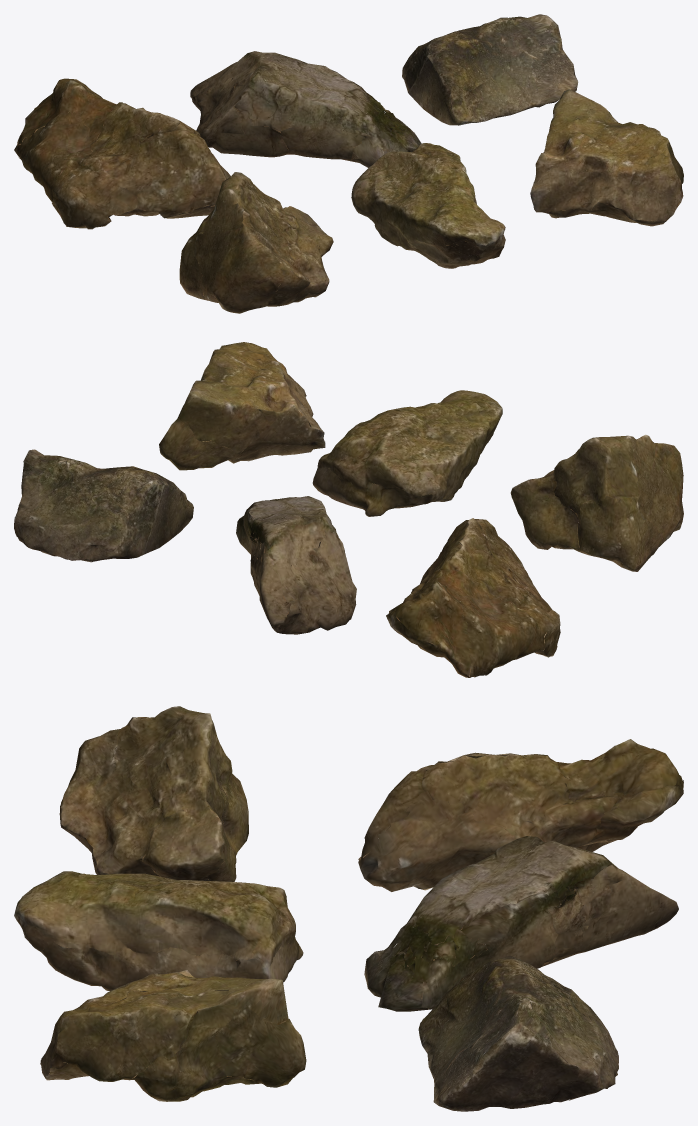
The model's file is rock_moss_set_01.glb.
3 renders of one model, top to bottom at view 1: azimuth 30°, elevation 25°; view 2: azimuth 150°, elevation 25°; view 3: azimuth 270°, elevation 25°, orthographic. The views are drawn at different scales.
Parts seen in each view (by area): view 1: rock_moss_set_01_rock01, rock_moss_set_01_rock02, rock_moss_set_01_rock06, rock_moss_set_01_rock04, rock_moss_set_01_rock03, rock_moss_set_01_rock05; view 2: rock_moss_set_01_rock04, rock_moss_set_01_rock01, rock_moss_set_01_rock05, rock_moss_set_01_rock03, rock_moss_set_01_rock06, rock_moss_set_01_rock02; view 3: rock_moss_set_01_rock01, rock_moss_set_01_rock02, rock_moss_set_01_rock05, rock_moss_set_01_rock04, rock_moss_set_01_rock06, rock_moss_set_01_rock03.
Part boxes in pixels (x1=…): rock_moss_set_01_rock01: x1=14, y1=78, x2=230, y2=229; rock_moss_set_01_rock02: x1=190, y1=51, x2=421, y2=167; rock_moss_set_01_rock06: x1=530, y1=89, x2=683, y2=226; rock_moss_set_01_rock04: x1=179, y1=172, x2=333, y2=313; rock_moss_set_01_rock03: x1=402, y1=14, x2=578, y2=125; rock_moss_set_01_rock05: x1=351, y1=143, x2=505, y2=268; rock_moss_set_01_rock04: x1=510, y1=434, x2=683, y2=571; rock_moss_set_01_rock01: x1=386, y1=518, x2=560, y2=677; rock_moss_set_01_rock05: x1=312, y1=390, x2=502, y2=516; rock_moss_set_01_rock03: x1=14, y1=449, x2=193, y2=562; rock_moss_set_01_rock06: x1=159, y1=342, x2=325, y2=470; rock_moss_set_01_rock02: x1=236, y1=496, x2=356, y2=634; rock_moss_set_01_rock01: x1=358, y1=739, x2=683, y2=891; rock_moss_set_01_rock02: x1=364, y1=836, x2=678, y2=1011; rock_moss_set_01_rock05: x1=14, y1=871, x2=303, y2=990; rock_moss_set_01_rock04: x1=59, y1=706, x2=248, y2=881; rock_moss_set_01_rock06: x1=40, y1=970, x2=306, y2=1101; rock_moss_set_01_rock03: x1=418, y1=955, x2=618, y2=1111.
Bounding box in the file's own units: 8 × 1.77 × 6.95.
1 material, 1 textured.
